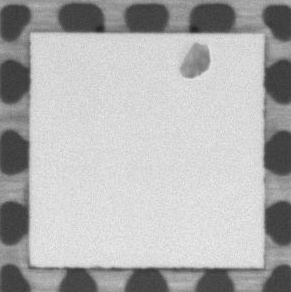DIE_INK: (179, 41, 210, 78)
